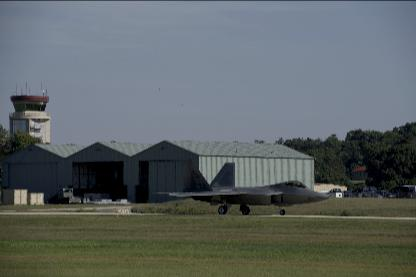F18: (152, 160, 330, 214)
